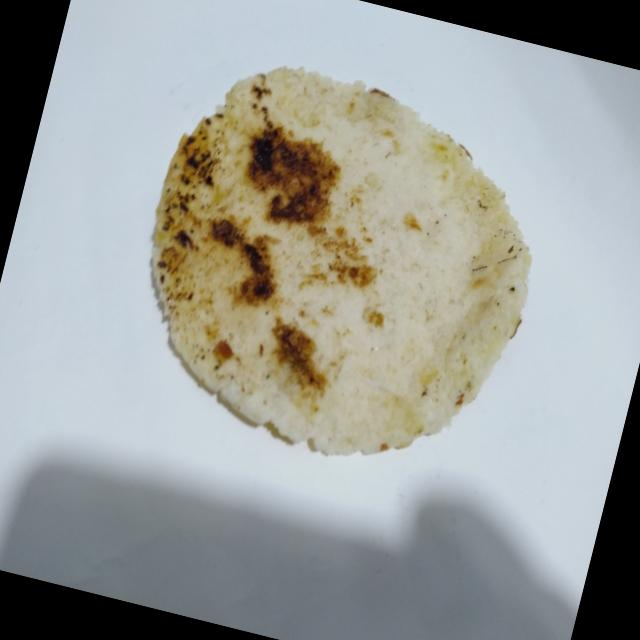Mbeju: (102, 26, 580, 504)
